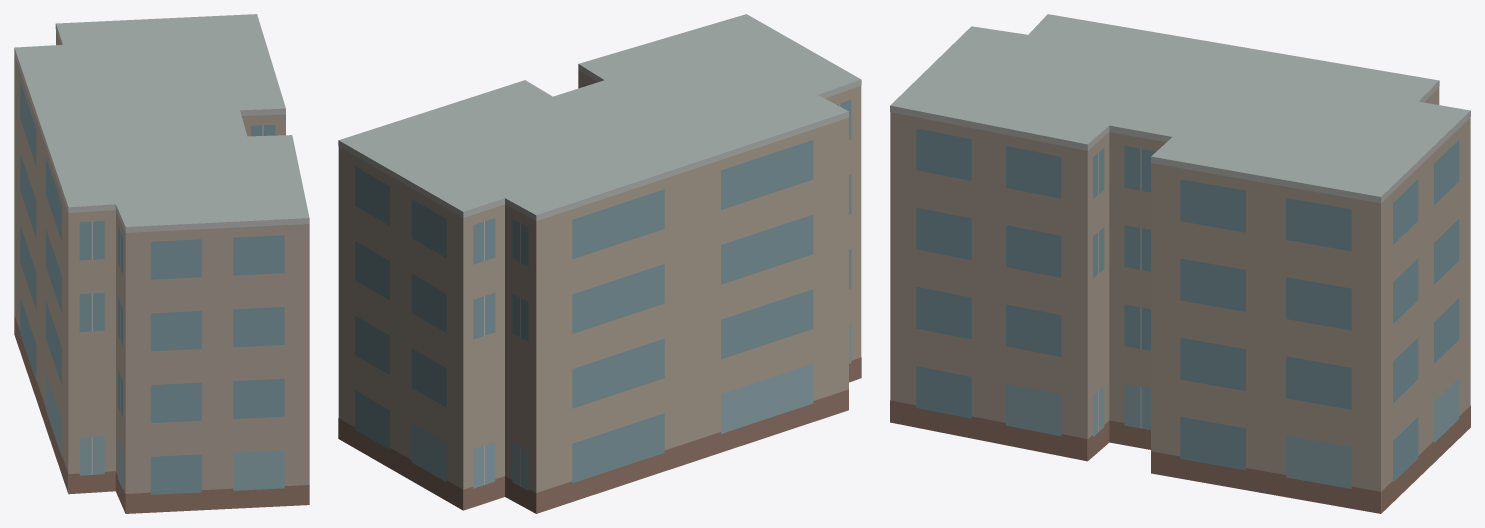
Rendered from survey-upis-32803686.glb.
3 renders of one model, left to right at view 1: azimuth 30°, elevation 25°; view 2: azimuth 150°, elevation 25°; view 3: azimuth 270°, elevation 25°, orthographic. The views are drawn at different scales.
Parts seen in each view (by area): view 1: survey-upis-32803686.tmp; view 2: survey-upis-32803686.tmp; view 3: survey-upis-32803686.tmp.
Part boxes in pixels (x1,y1,x2,y2): survey-upis-32803686.tmp: (14, 14, 309, 513); survey-upis-32803686.tmp: (338, 14, 861, 513); survey-upis-32803686.tmp: (890, 14, 1470, 513).
Size of the model in its own units: 14.91 by 12.03 by 19.99.
